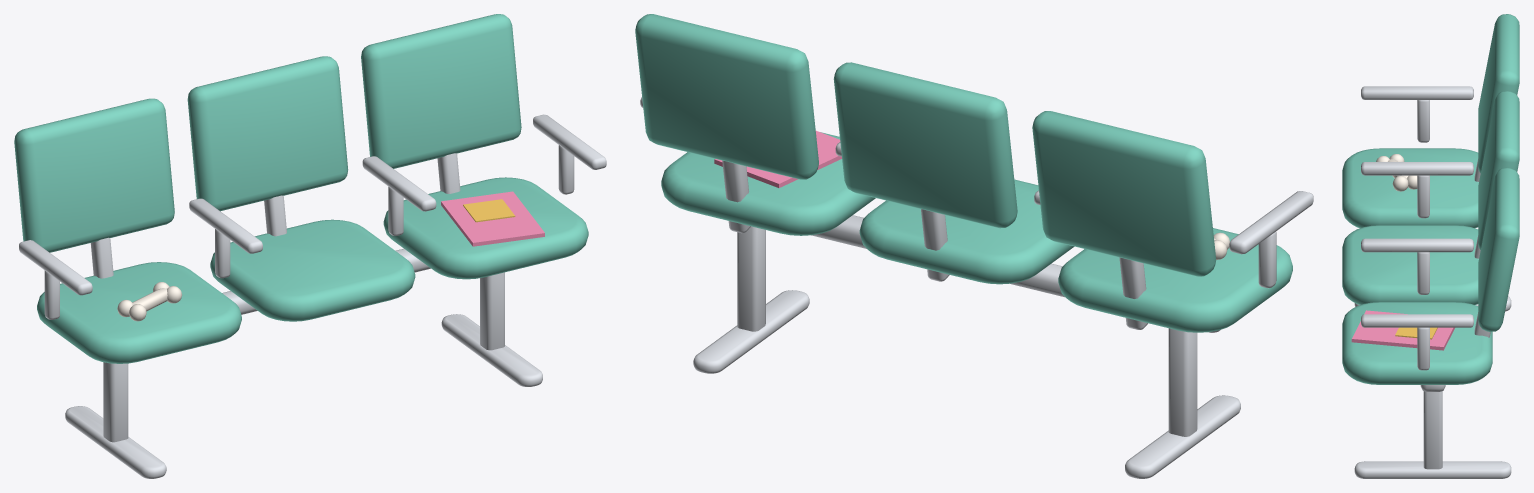
File: waiting_chairs.glb
3 renders of one model, left to right at view 1: azimuth 30°, elevation 25°; view 2: azimuth 150°, elevation 25°; view 3: azimuth 270°, elevation 25°, orthographic. The views are drawn at different scales.
Parts seen in each view (by area): view 1: waiting_chairs; view 2: waiting_chairs; view 3: waiting_chairs.
Part boxes in pixels (box(x1,y1,x2,y2)): waiting_chairs: box(14, 14, 606, 478); waiting_chairs: box(635, 14, 1313, 478); waiting_chairs: box(1342, 14, 1519, 478).
Bounding box in the file's own units: 1.77 × 0.958 × 0.5663.
